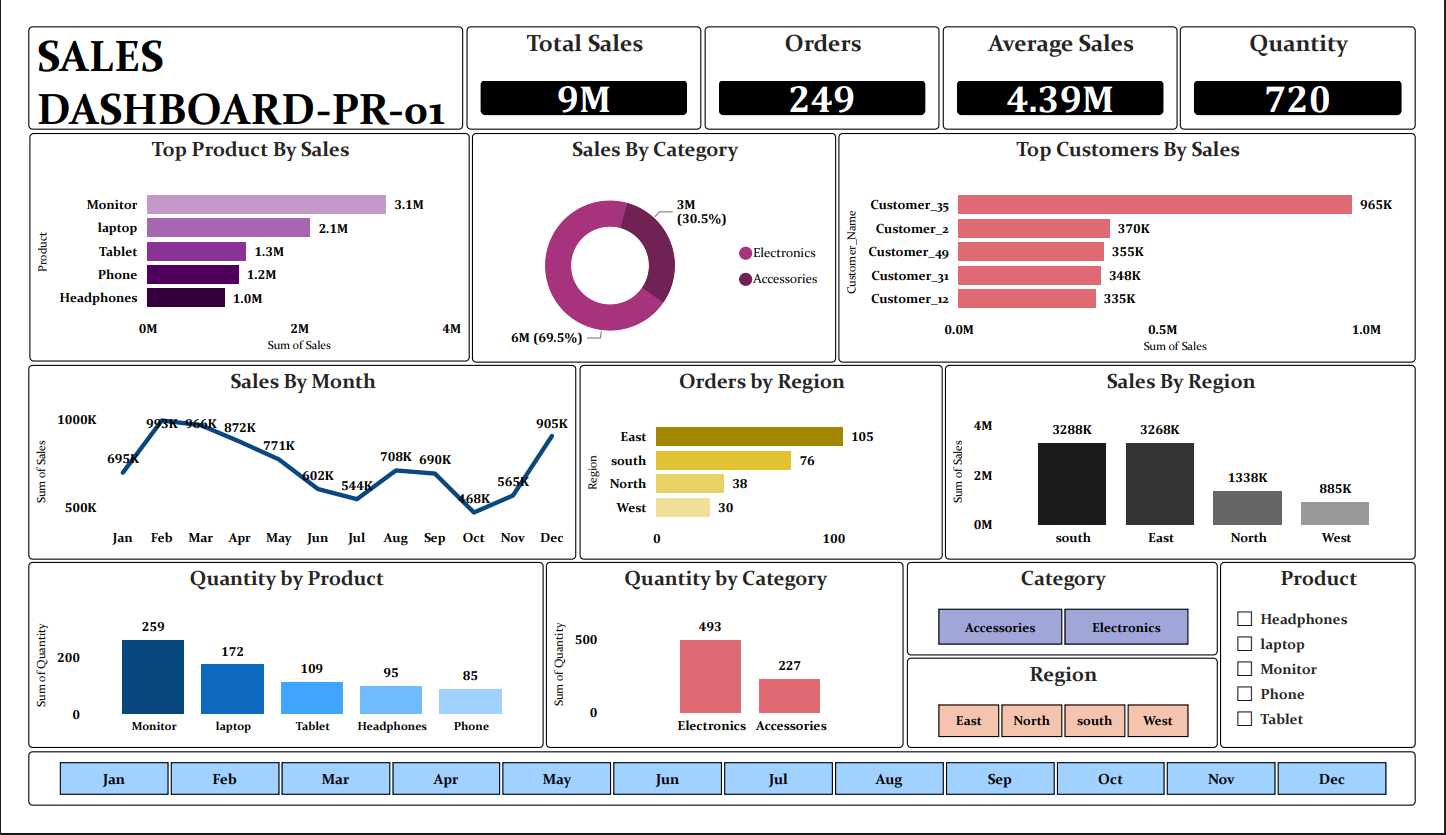

The page's visual inventory and layout, read from the dashboard file:
{"tool":"powerbi","page":{"name":"Page 1","canvas":[1280,720],"ordinal":0},"visuals":[{"type":"columnChart","title":"Sales By Region","fields":{"Y":["Sum(Sheet1.Sales)"],"Category":["Sheet1.Region"]},"box":[845,313,432.9,178.5],"z":0},{"type":"lineChart","title":"Sales By Month","fields":{"Y":["Sum(Sheet1.Sales)"],"Category":["Sheet1.Month"]},"box":[2.4,313,503.8,178.5],"z":1000},{"type":"barChart","title":"Top Customers By Sales","fields":{"Category":["Sheet1.Customer_Name"],"Y":["Sum(Sheet1.Sales)"]},"box":[747.2,100.3,530.7,210.3],"z":2000},{"type":"clusteredColumnChart","title":"Quantity by Product","fields":{"Y":["Sum(Sheet1.Quantity)"],"Category":["Sheet1.Product"]},"box":[2.4,494,473.2,171.2],"z":3000},{"type":"barChart","title":"Orders by Region","fields":{"Category":["Sheet1.Region"],"Y":["Sheet1.Total_Orders"]},"box":[508.7,313,333.8,178.5],"z":4000},{"type":"cardVisual","title":"Orders","fields":{"Data":["Sheet1.Total_Orders"]},"box":[623.6,2.4,216.4,94.2],"z":5000},{"type":"cardVisual","title":"Total Sales","fields":{"Data":["Sheet1.Total_Sales"]},"box":[404.8,2.4,216.4,94.2],"z":6000},{"type":"cardVisual","title":"Average Sales","fields":{"Data":["Sum(Sheet1.Average_Sales)"]},"box":[842.5,2.4,216.4,94.2],"z":7000},{"type":"cardVisual","title":"Quantity","fields":{"Data":["Sheet1.Total_Quantity"]},"box":[1061.4,2.4,216.4,94.2],"z":8000},{"type":"slicer","title":"Region","fields":{"Values":["Sheet1.Region"]},"box":[809.5,582.1,286.1,83.2],"z":9000},{"type":"slicer","title":"Category","fields":{"Values":["Sheet1.Category"]},"box":[809.5,494,286.1,85.6],"z":10000},{"type":"slicer","title":"Product","fields":{"Values":["Sheet1.Product"]},"box":[1098.1,494,179.8,171.2],"z":11000},{"type":"slicer","title":"Month","fields":{"Values":["Sheet1.Month"]},"box":[2.4,667.7,1275.4,50.1],"z":12000},{"type":"clusteredColumnChart","title":"Quantity by Category","fields":{"Y":["Sum(Sheet1.Quantity)"],"Category":["Sheet1.Category"]},"box":[478.1,494,328.9,171.2],"z":13000},{"type":"donutChart","title":"Sales By Category","fields":{"Y":["Sum(Sheet1.Sales)"],"Category":["Sheet1.Category"]},"box":[409.6,100.3,335.1,210.3],"z":14000},{"type":"barChart","title":"Top Product By Sales","fields":{"Y":["Sum(Sheet1.Sales)"],"Category":["Sheet1.Product"]},"box":[2.7,100.2,404.8,209.9],"z":15000},{"type":"textbox","title":"SALES DASHBOARD-PR-01","box":[2.4,2.4,399.9,94.2],"z":16000}]}

Visuals, with their boxes in screenshot pixels (x1, y1, x2, y2), scaled from the page's 1280x720 canvas onto the 1446x835 screenshot:
"Sales By Region" columnChart: 955:363:1444:570
"Sales By Month" lineChart: 3:363:572:570
"Top Customers By Sales" barChart: 844:116:1444:360
"Quantity by Product" clusteredColumnChart: 3:573:537:771
"Orders by Region" barChart: 575:363:952:570
"Orders" cardVisual: 704:3:949:112
"Total Sales" cardVisual: 457:3:702:112
"Average Sales" cardVisual: 952:3:1196:112
"Quantity" cardVisual: 1199:3:1444:112
"Region" slicer: 914:675:1238:772
"Category" slicer: 914:573:1238:672
"Product" slicer: 1241:573:1444:771
"Month" slicer: 3:774:1444:832
"Quantity by Category" clusteredColumnChart: 540:573:912:771
"Sales By Category" donutChart: 463:116:841:360
"Top Product By Sales" barChart: 3:116:460:360
"SALES DASHBOARD-PR-01" textbox: 3:3:454:112
